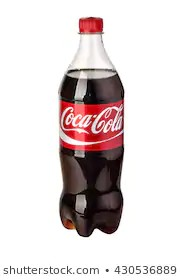coke-bottle-2l: (56, 14, 126, 239)
